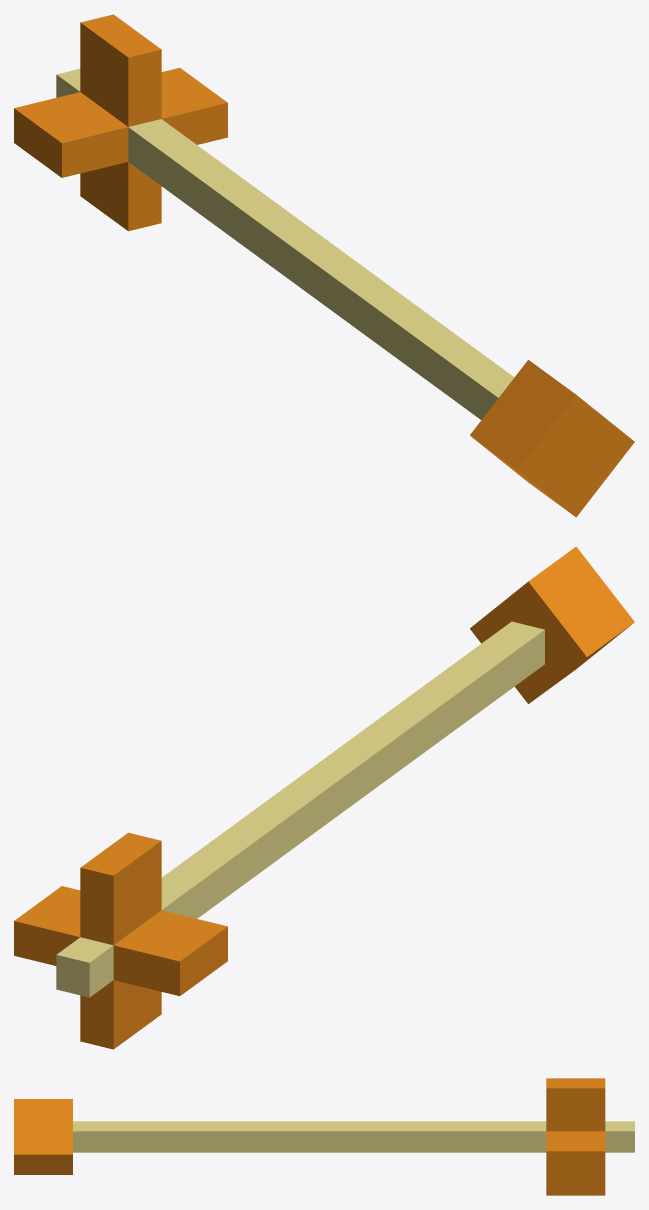
Rendered from KingArrowA.fbx.
3 renders of one model, top to bottom at view 1: azimuth 30°, elevation 25°; view 2: azimuth 150°, elevation 25°; view 3: azimuth 270°, elevation 25°, orthographic. The views are drawn at different scales.
Parts seen in each view (by area): view 1: Cube.006, Cube.007, Cube.008, Cube.009; view 2: Cube.006, Cube.008, Cube.009, Cube.007; view 3: Cube.006, Cube.008, Cube.007, Cube.009.
Part boxes in pixels (box(x1,y1,x2,y2)): Cube.006: box(56, 69, 514, 419); Cube.007: box(470, 360, 634, 517); Cube.008: box(80, 14, 161, 231); Cube.009: box(14, 67, 227, 177); Cube.006: box(56, 621, 544, 997); Cube.008: box(80, 832, 161, 1049); Cube.009: box(14, 886, 227, 996); Cube.007: box(470, 546, 634, 703); Cube.006: box(73, 1121, 634, 1152); Cube.008: box(546, 1078, 605, 1195); Cube.007: box(14, 1099, 72, 1174); Cube.009: box(546, 1131, 605, 1172).
Size of the model in its own units: 20 by 20 by 105.
